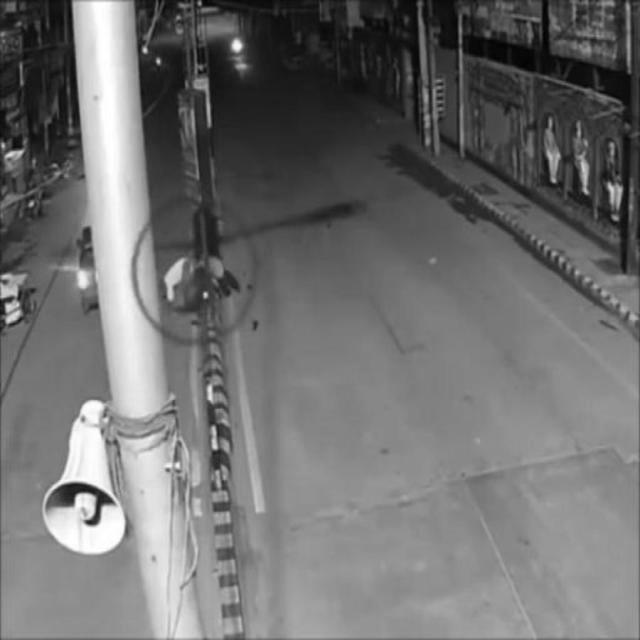vehicle: (75, 222, 105, 310)
